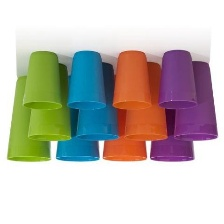glass: (4, 71, 55, 168), (55, 71, 101, 169), (71, 58, 121, 145), (170, 60, 220, 144), (120, 60, 169, 145), (24, 64, 76, 144), (110, 47, 159, 117), (149, 103, 197, 168), (21, 46, 66, 112), (98, 111, 153, 165), (65, 46, 108, 113), (156, 47, 200, 112)
